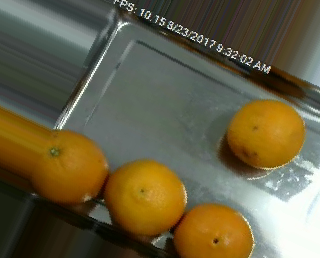Orange: (106, 158, 187, 236), (226, 99, 306, 170), (176, 203, 255, 258)
